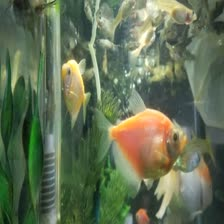Guppy: (147, 0, 198, 24)
Plano: (91, 104, 193, 175), (47, 50, 95, 129)
